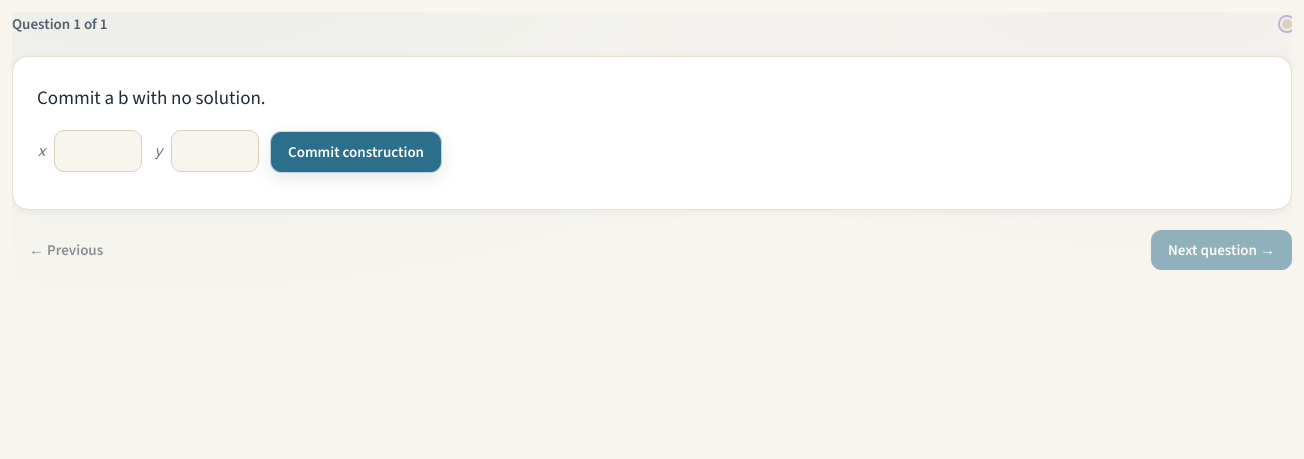
Scenario: ExercisePanel renders the construct-in-explorer capability › grades the committed vector against the pure predicate
The width and height of the screenshot is (1304, 459).
In the number field named "x coordinate": [98, 151] box left=54, top=130, right=142, bottom=172, type "1"
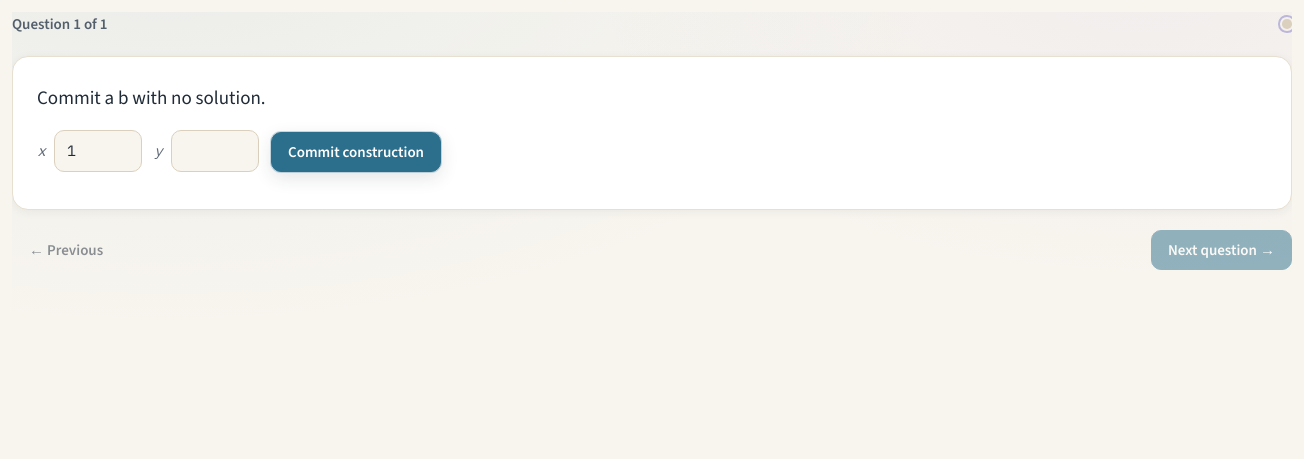
In the number field named "y coordinate": [215, 151] box left=171, top=130, right=259, bottom=172, type "0"
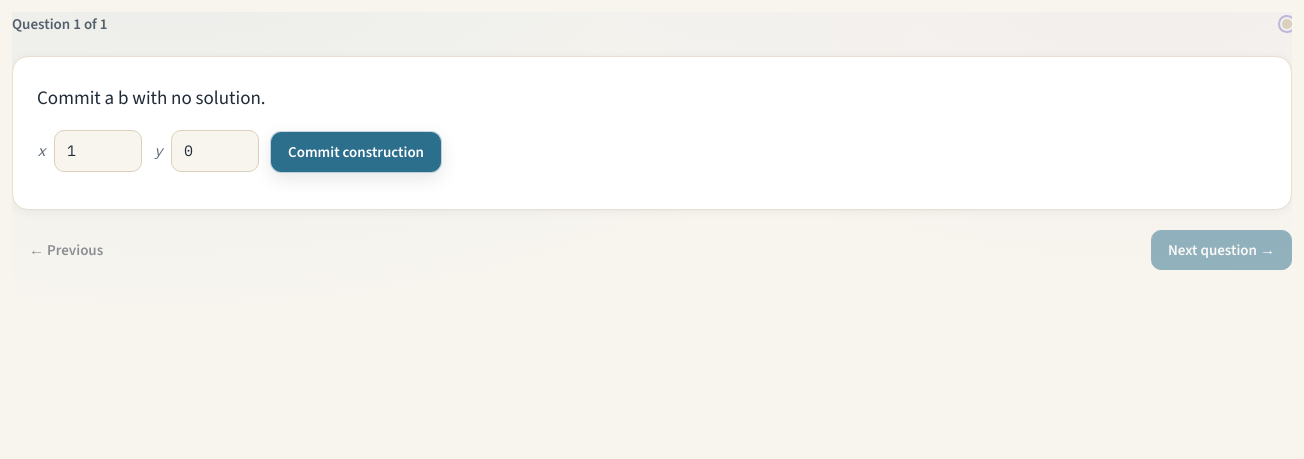
Click the button "Commit construction": [356, 152] box left=271, top=132, right=441, bottom=172
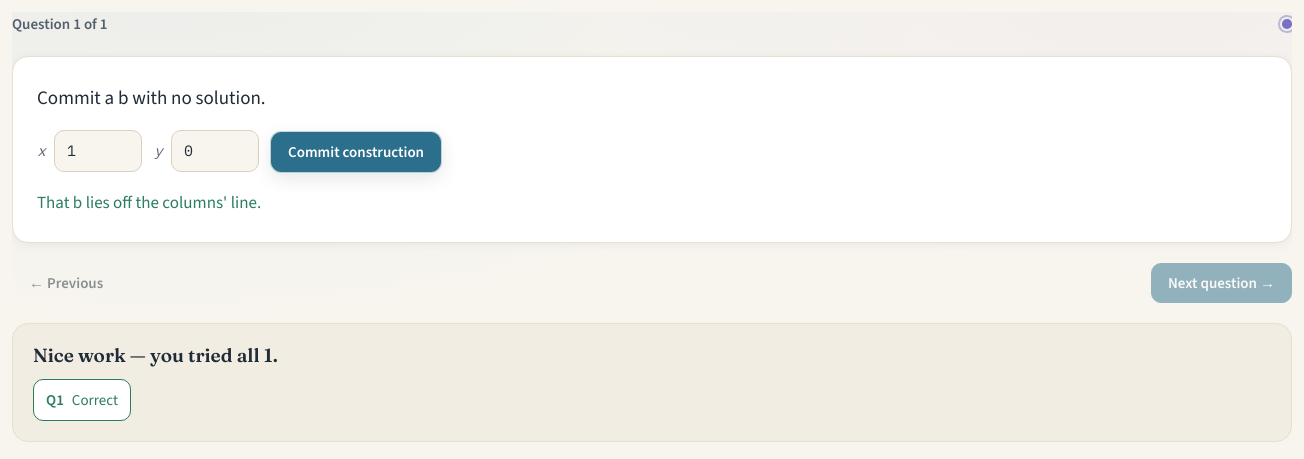
Result: the text "off the columns' line" is shown at left=37, top=191, right=261, bottom=214
